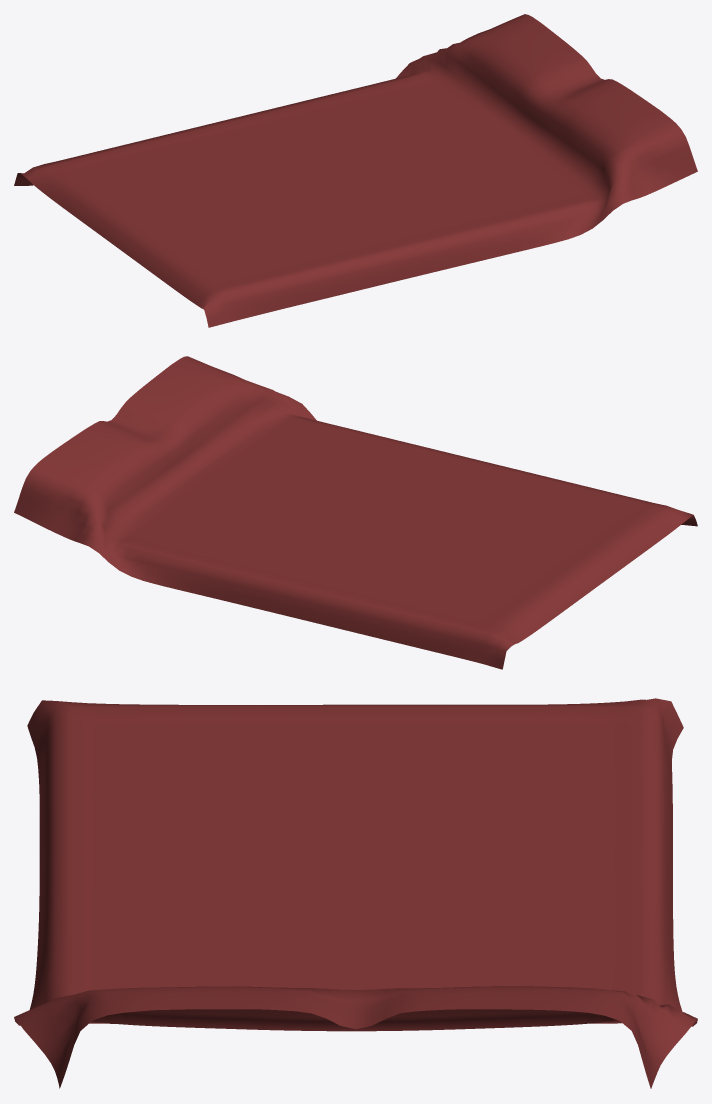
Rendered from Bedsheet.glb.
The picture shows the model from 3 angles, top to bottom: view 1: azimuth 30°, elevation 25°; view 2: azimuth 150°, elevation 25°; view 3: azimuth 270°, elevation 25°; orthographic projection. The views are drawn at different scales.
Parts seen in each view (by area): view 1: Bedsheet; view 2: Bedsheet; view 3: Bedsheet.
Part boxes in pixels (<box>): Bedsheet: <box>14,14,697,327</box>; Bedsheet: <box>14,356,697,669</box>; Bedsheet: <box>14,698,697,1088</box>.
Bounding box in the file's own units: 9.77 × 1.37 × 6.88.
1 material, 1 textured.
